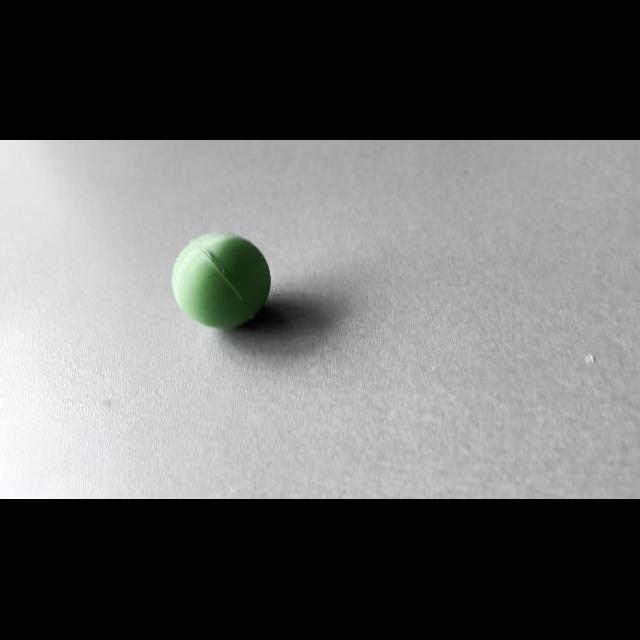objects: (165, 222, 278, 332)
